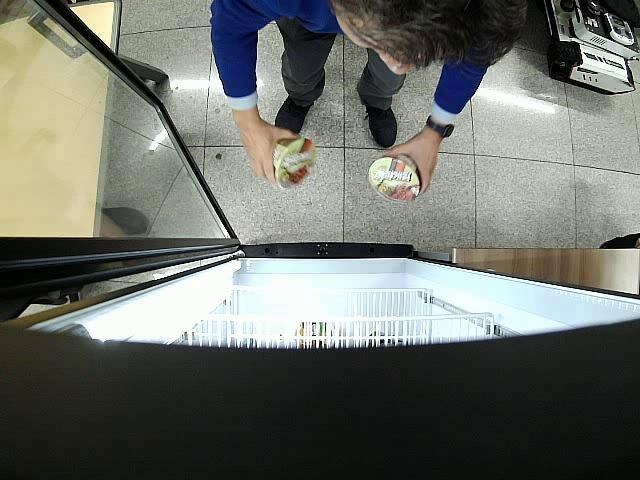03_chapagetti_L: (368, 154, 421, 204), (273, 138, 317, 188)
